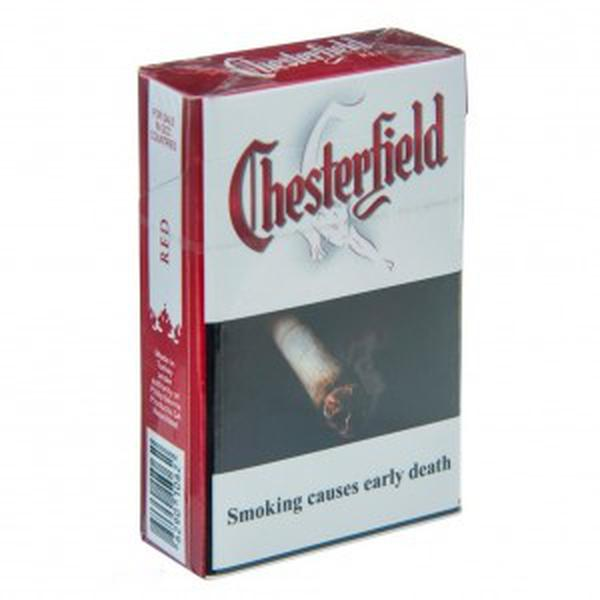chesterfield_red: (202, 87, 462, 514)
